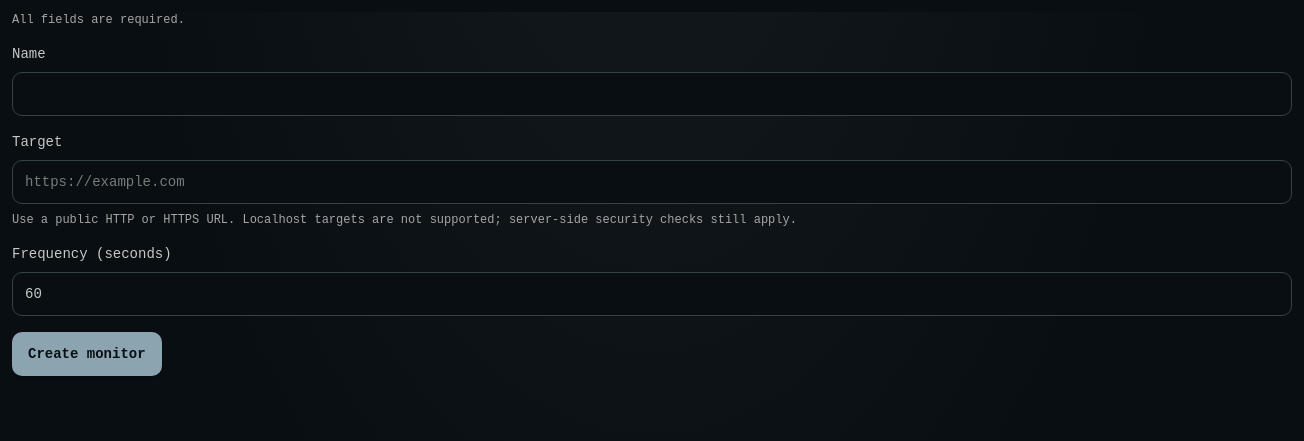
Test case: CreateMonitorForm › rejects unsupported target ftp://example.com before posting
Type "x" into the field labelled "Name".
click(652, 94); type("x")  # box x1=12 y1=72 x2=1292 y2=116
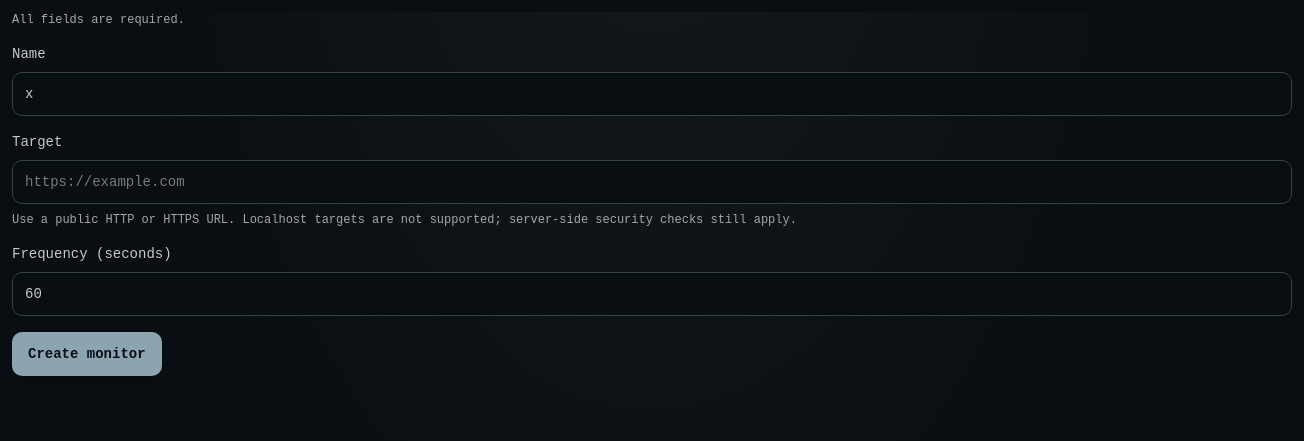
Type "ftp://example.com" into the field labelled "Target".
click(652, 182); type("ftp://example.com")  # box x1=12 y1=160 x2=1292 y2=204
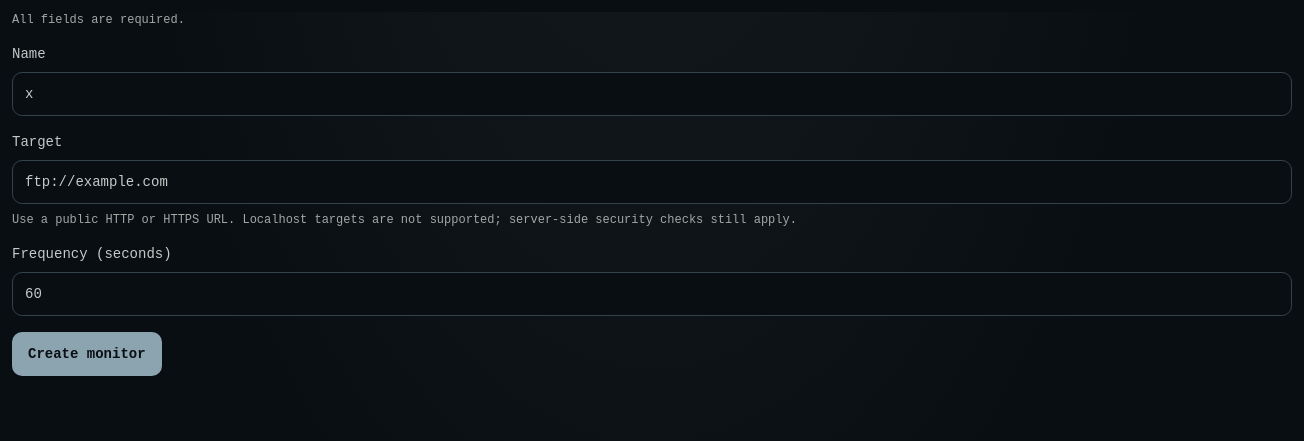
Click the button "Create monitor".
click(87, 354)  # box x1=12 y1=332 x2=162 y2=376
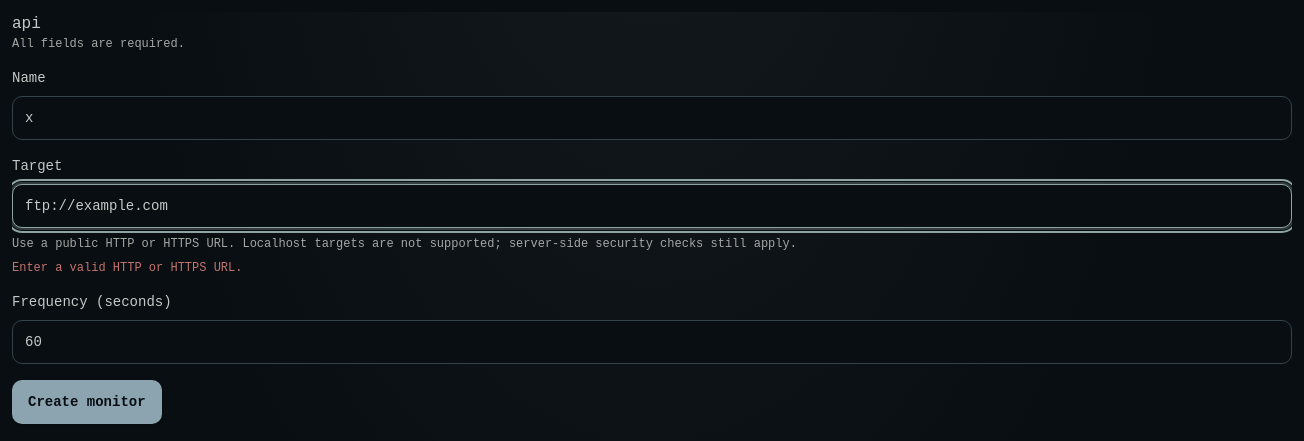
Expected: the text with id "monitor-target-error" shows "HTTP or HTTPS", x1=12 y1=261 x2=242 y2=275
